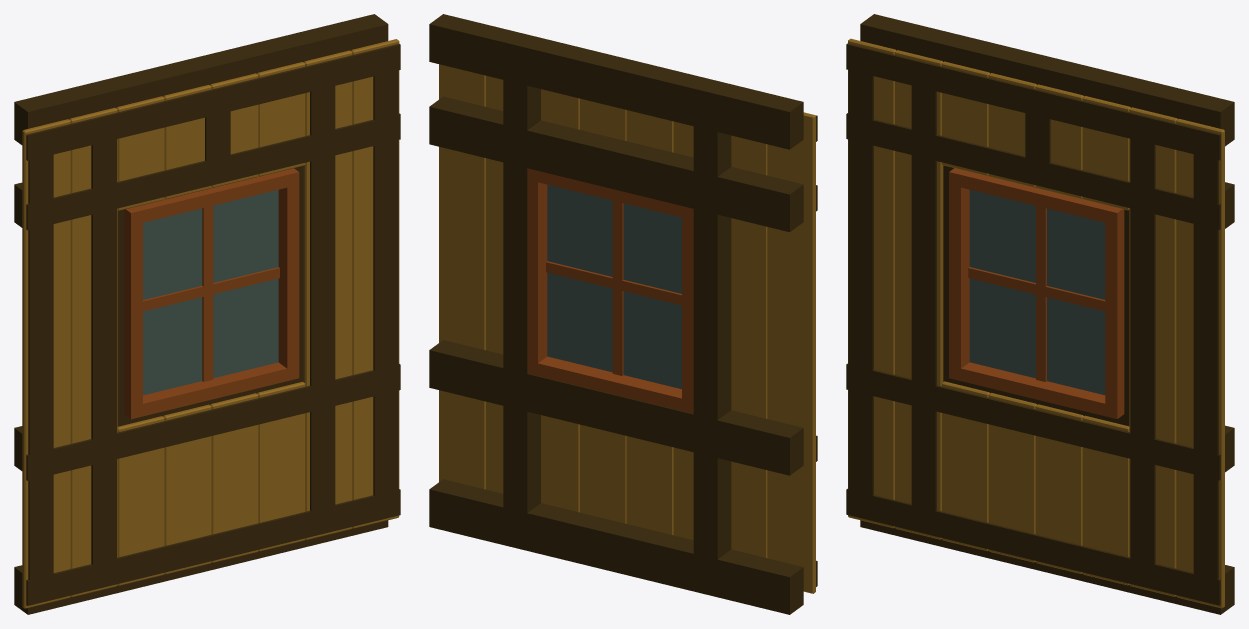
Rendered from Zid sa prozor.FBX.
3 renders of one model, left to right at view 1: azimuth 30°, elevation 25°; view 2: azimuth 150°, elevation 25°; view 3: azimuth 330°, elevation 25°, orthographic.
Parts seen in each view (by area): view 1: zid_ukrasi_prozor005, zid_tarabe_prozor005, Box1523, zid_konstrukcija_prozor005, prozor005, Box1522; view 2: zid_konstrukcija_prozor005, zid_tarabe_prozor005, Box1523, prozor005, Box1522; view 3: zid_ukrasi_prozor005, zid_tarabe_prozor005, Box1523, zid_konstrukcija_prozor005, prozor005, Box1522.
Part boxes in pixels (box(x1,y1,x2,y2)): zid_ukrasi_prozor005: box(26, 43, 400, 605); zid_tarabe_prozor005: box(22, 39, 399, 608); Box1523: box(143, 190, 278, 395); zid_konstrukcija_prozor005: box(14, 14, 388, 614); prozor005: box(124, 168, 299, 419); Box1522: box(143, 206, 279, 381); zid_konstrukcija_prozor005: box(429, 14, 803, 614); zid_tarabe_prozor005: box(439, 64, 815, 593); Box1523: box(547, 184, 681, 389); prozor005: box(527, 168, 693, 413); Box1522: box(546, 200, 681, 375); zid_ukrasi_prozor005: box(846, 43, 1220, 605); zid_tarabe_prozor005: box(848, 38, 1224, 608); Box1523: box(969, 189, 1105, 395); zid_konstrukcija_prozor005: box(860, 14, 1234, 614); prozor005: box(949, 168, 1124, 418); Box1522: box(968, 206, 1105, 381).
Bounding box in the file's own units: 156 × 200 × 15.1.
